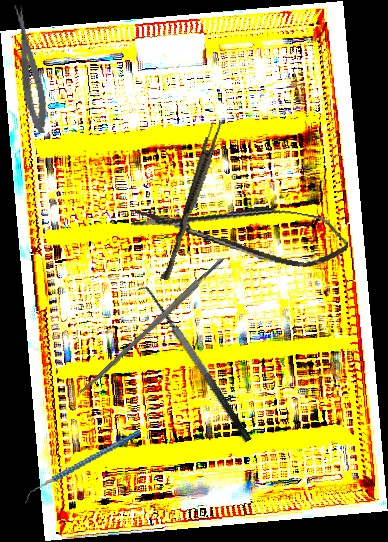Chopper: (16, 429, 149, 505)
Micro Scissor: (129, 184, 352, 275), (9, 2, 52, 135)
Scalpel Handle: (77, 255, 228, 397)
Spatula Surgical: (132, 279, 253, 452)
Tissue Forceps: (160, 120, 223, 283)
